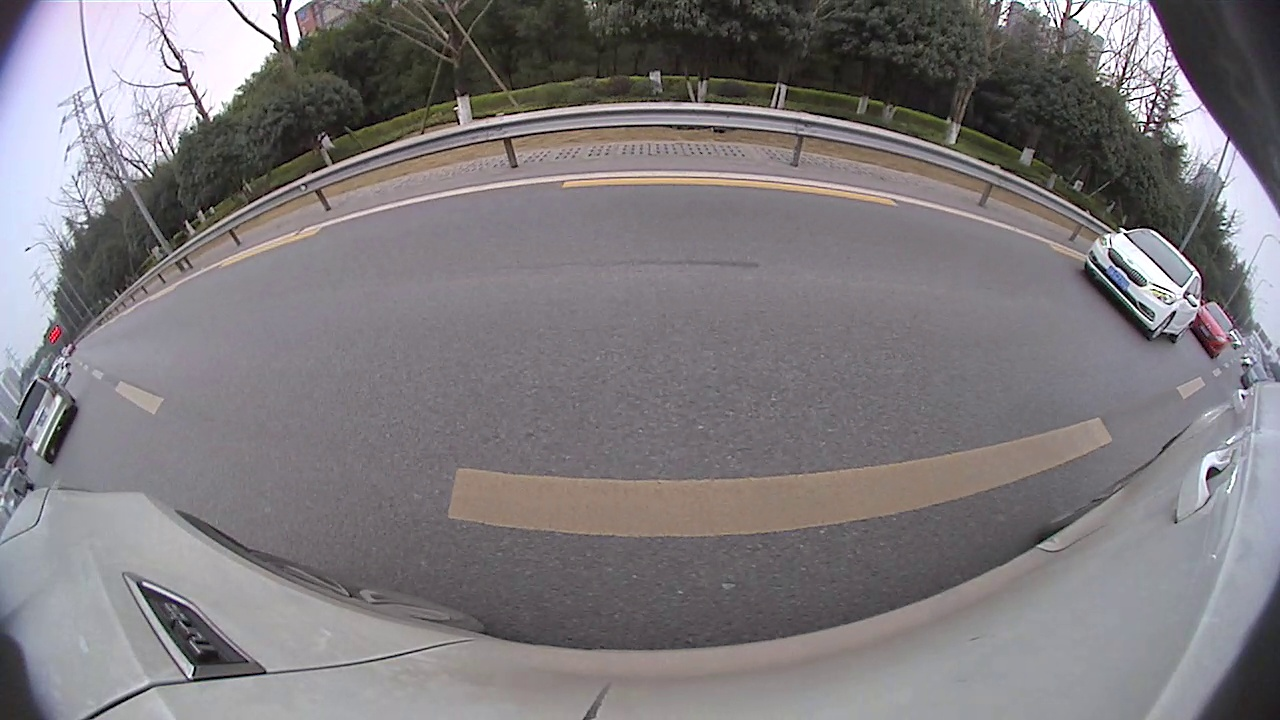car: (1083, 226, 1204, 344), (14, 373, 80, 465), (0, 466, 37, 540), (1193, 299, 1235, 359)
front: (1149, 313, 1173, 342)
